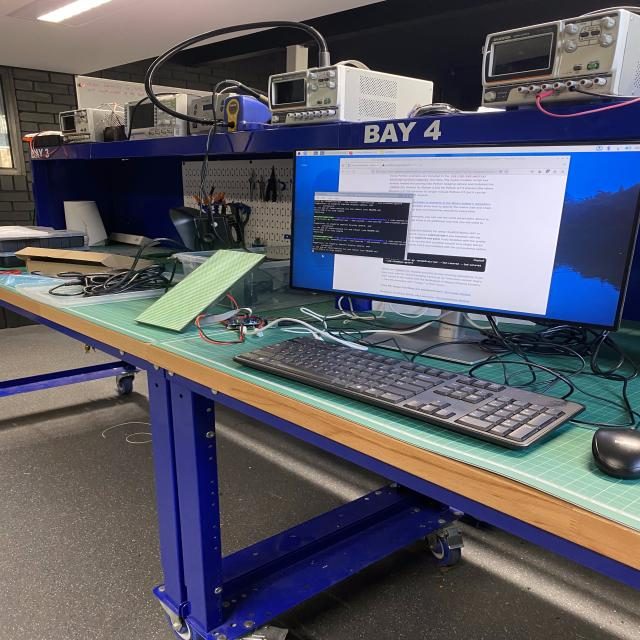matrix: (131, 236, 275, 343)
